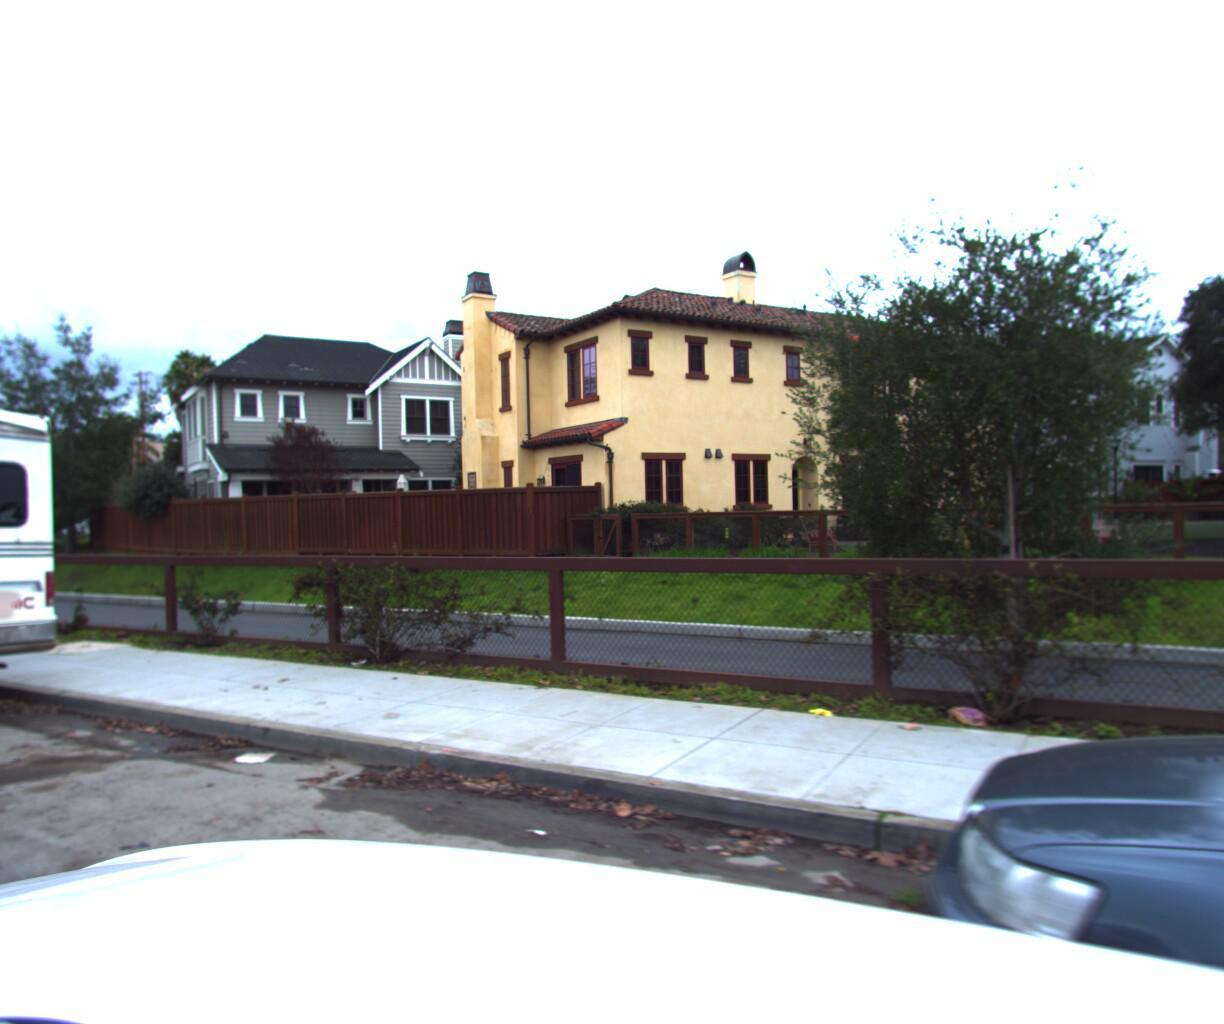other_vehicle: (0, 370, 90, 794)
